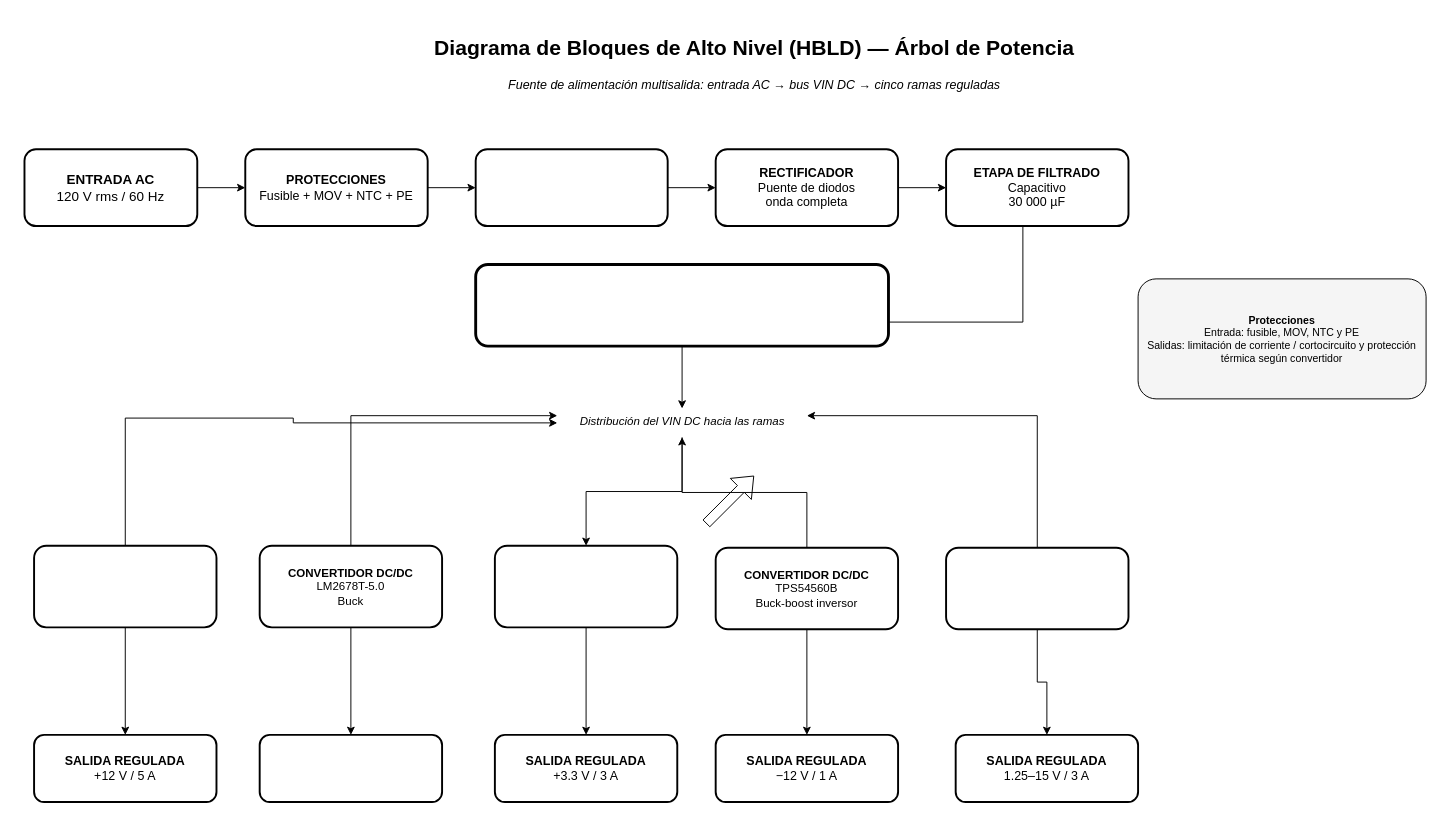
Image size: 1443x819. Some labels were removed from this diagram. Each missing label, with the box of its shape:
BUS DE ALIMENTACIÓN — VIN DC ≈ 27 V nominal (bus no regulado): (474, 263, 889, 347)
CONVERTIDOR DC/DC LM2678T-12 Buck: (33, 544, 217, 628)
CONVERTIDOR DC/DC LM2678T-3.3 Buck: (493, 544, 678, 628)
CONVERTIDOR DC/DC LM2678T-ADJ Buck ajustable: (945, 546, 1129, 630)
SALIDA REGULADA +5 V / 5 A: (258, 733, 443, 803)
TRANSFORMADOR 20 V rms / 10 A secundarios en paralelo: (474, 148, 668, 227)
